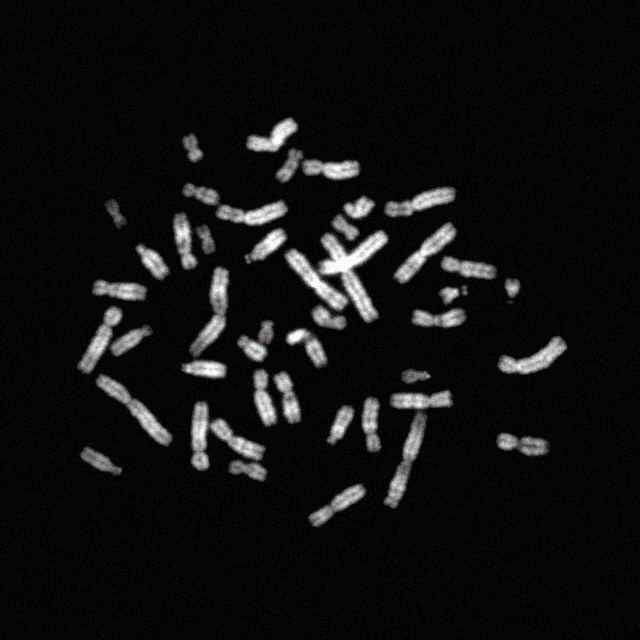chromosome: (96, 376, 172, 446), (322, 234, 378, 324), (384, 412, 428, 508), (394, 222, 456, 284), (284, 250, 348, 310), (190, 267, 228, 357), (318, 231, 388, 275), (77, 306, 121, 374), (498, 336, 568, 374), (308, 484, 366, 526), (212, 418, 264, 460), (384, 187, 456, 217), (216, 200, 288, 226), (246, 118, 298, 152), (286, 328, 328, 369), (244, 228, 286, 266), (190, 400, 210, 470), (274, 371, 300, 424), (440, 256, 496, 280), (111, 324, 153, 356), (254, 369, 276, 427), (174, 212, 196, 270), (136, 243, 170, 280), (497, 433, 549, 457), (80, 446, 122, 474), (304, 159, 361, 179), (326, 406, 354, 446), (362, 397, 382, 453), (390, 391, 452, 409), (412, 308, 466, 328), (92, 280, 146, 300), (276, 149, 302, 183), (236, 335, 268, 361), (180, 360, 226, 378), (228, 461, 268, 481), (183, 183, 219, 205), (312, 306, 346, 328), (106, 198, 128, 230), (332, 214, 358, 240), (344, 196, 374, 218), (439, 285, 468, 305), (196, 224, 216, 253), (182, 134, 202, 162), (401, 369, 431, 383), (504, 278, 520, 304), (258, 321, 274, 344)
